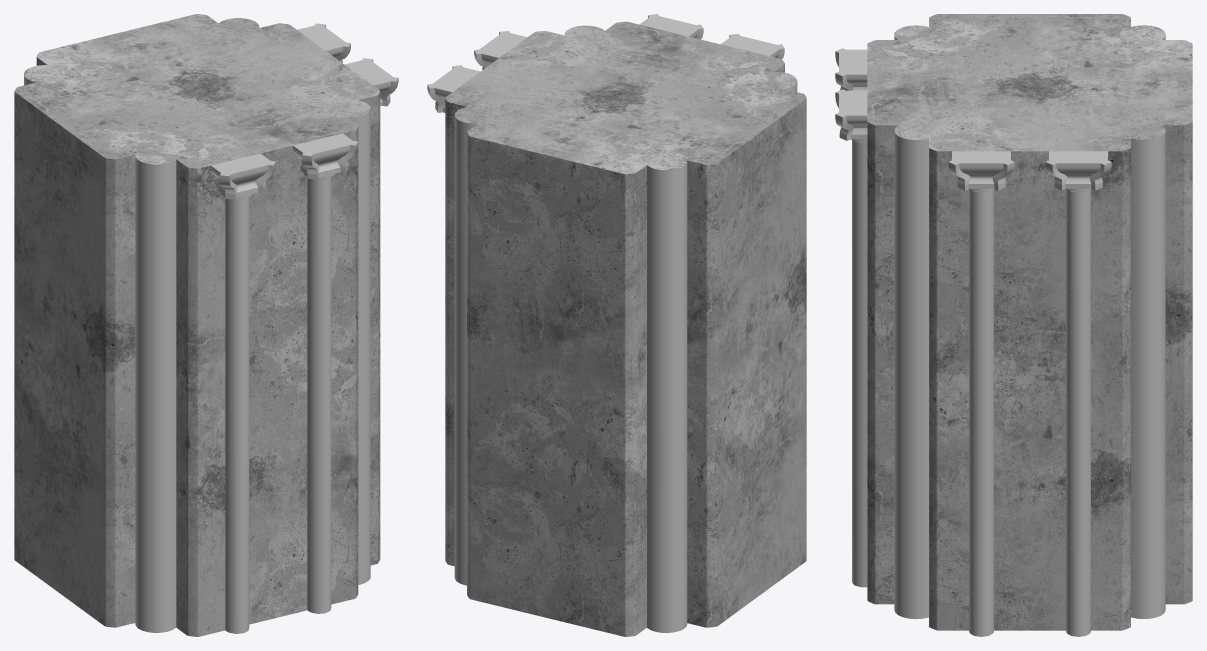
The model's file is SM_TowerPillar_03a.fbx.
3 renders of one model, left to right at view 1: azimuth 30°, elevation 25°; view 2: azimuth 150°, elevation 25°; view 3: azimuth 270°, elevation 25°, orthographic. The views are drawn at different scales.
Visible parts, largest first — view 1: SM_TowerPillar_03a_LOD0; view 2: SM_TowerPillar_03a_LOD0; view 3: SM_TowerPillar_03a_LOD0.
Part boxes in pixels (x1=…): SM_TowerPillar_03a_LOD0: x1=14, y1=14, x2=398, y2=636; SM_TowerPillar_03a_LOD0: x1=427, y1=14, x2=806, y2=636; SM_TowerPillar_03a_LOD0: x1=835, y1=14, x2=1192, y2=636.
Bounding box in the file's own units: 406 × 406 × 600.
